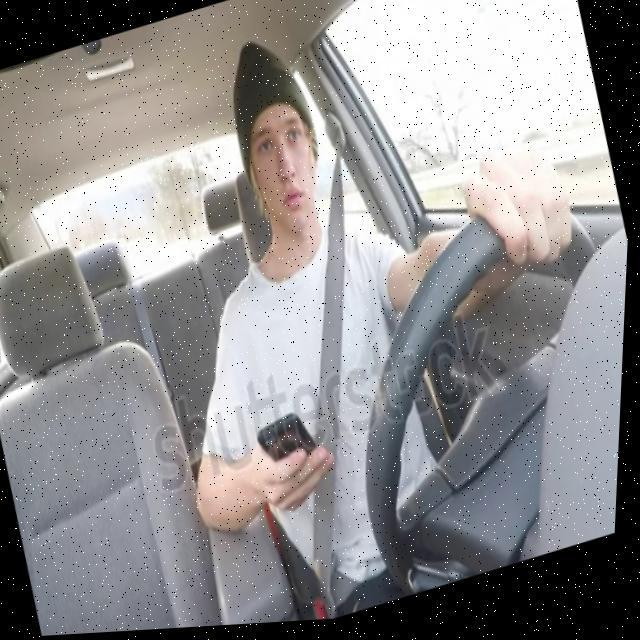PhoneCall: (255, 405, 336, 503)
